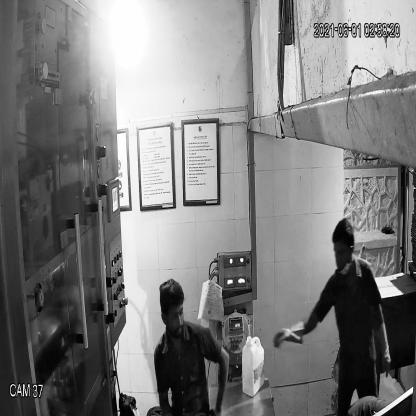no_goggles: (159, 304, 185, 326)
